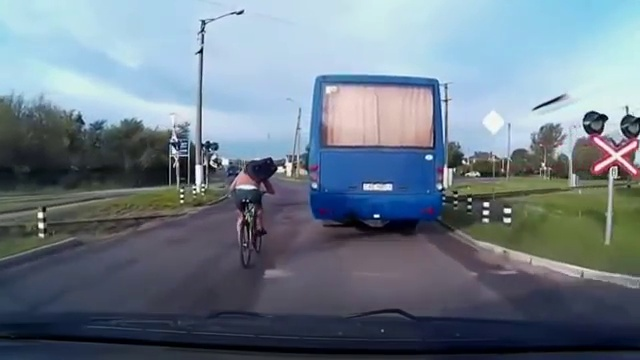cyclist_back: (231, 155, 270, 263)
